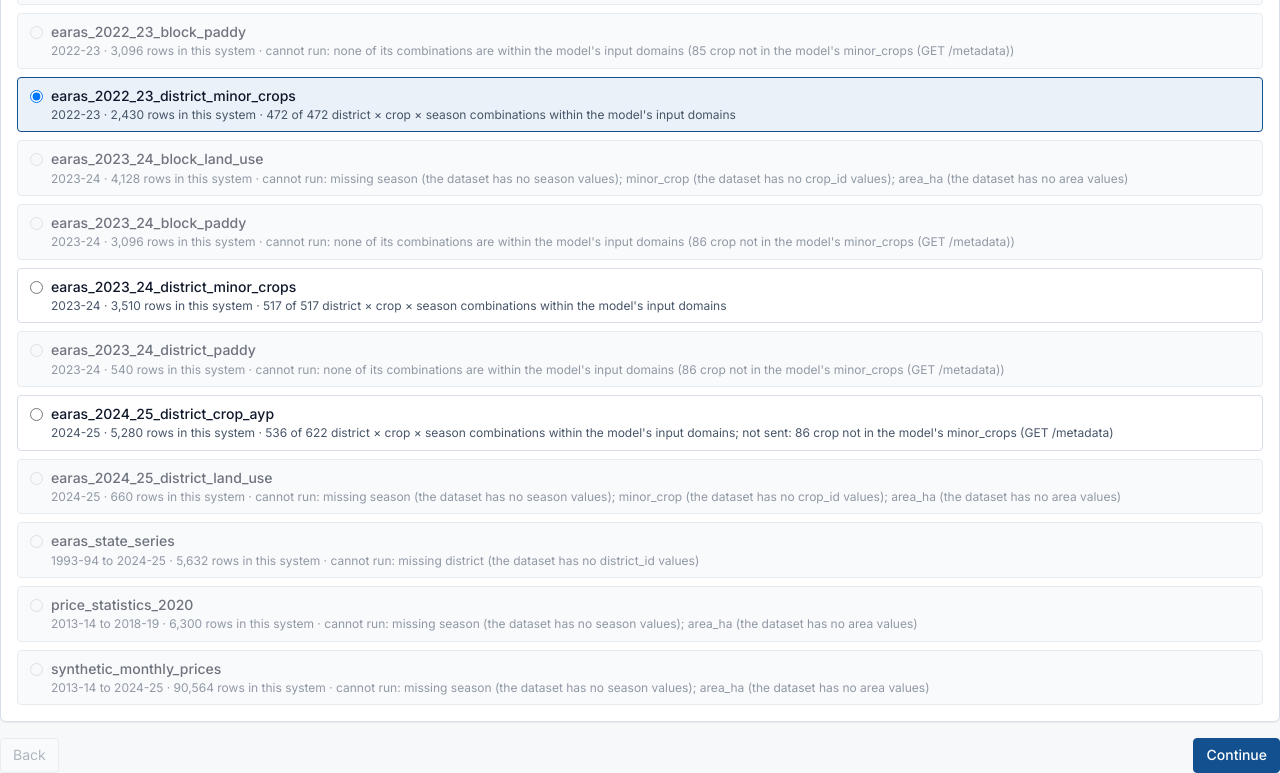
Scenario: Sandbox (RFP areas 6-7) › shows a failed run (runStorageFailed) as a specific message
(page scrolled)
Click the button "Continue".
click(1237, 756)  # box left=1194, top=738, right=1279, bottom=772
(page scrolled)
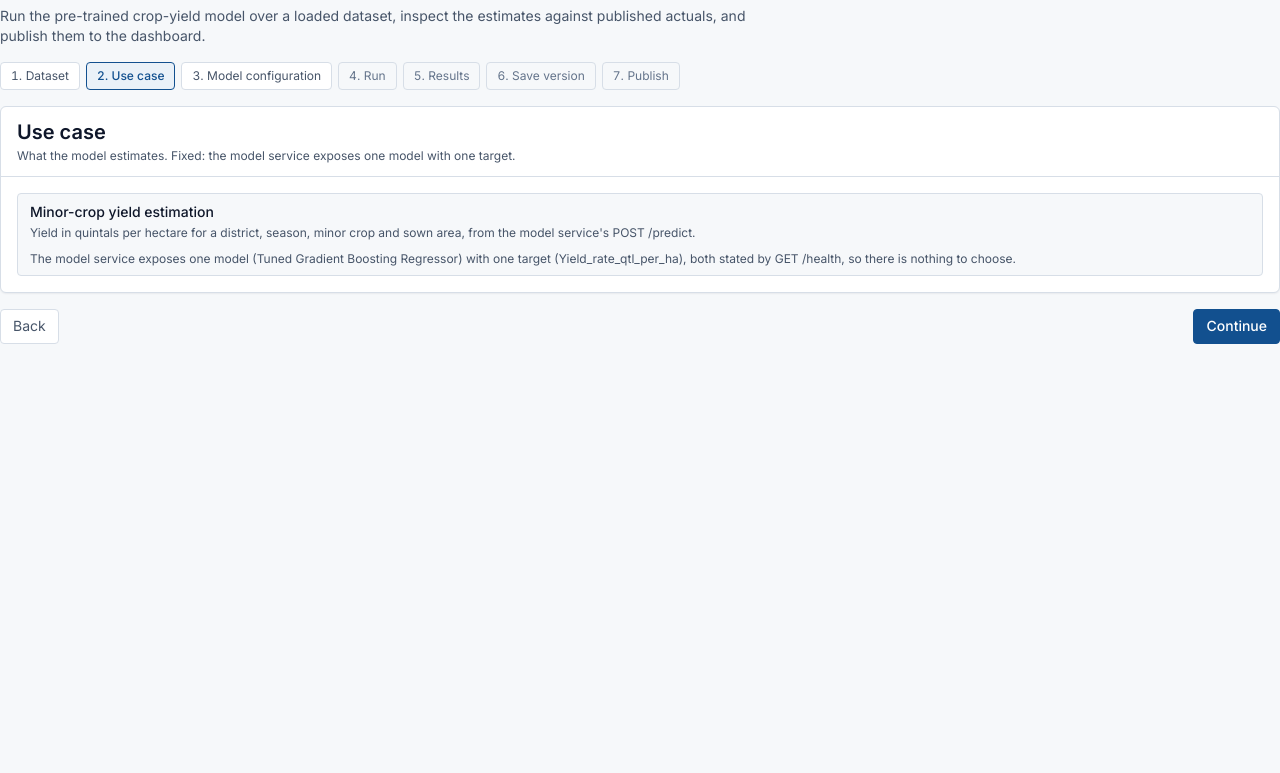
Click the button "Continue".
click(1237, 326)  # box left=1194, top=309, right=1279, bottom=344
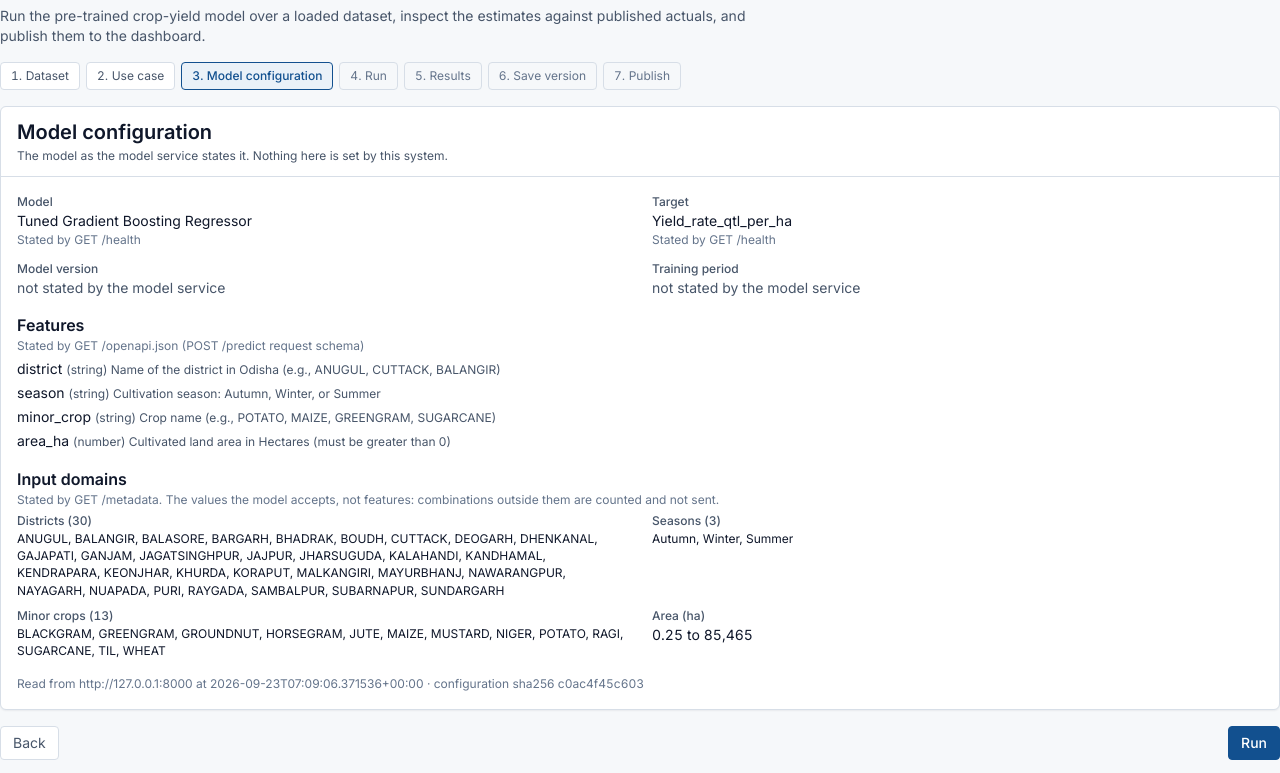
Click the button "Run".
click(1254, 743)  # box left=1228, top=726, right=1279, bottom=760
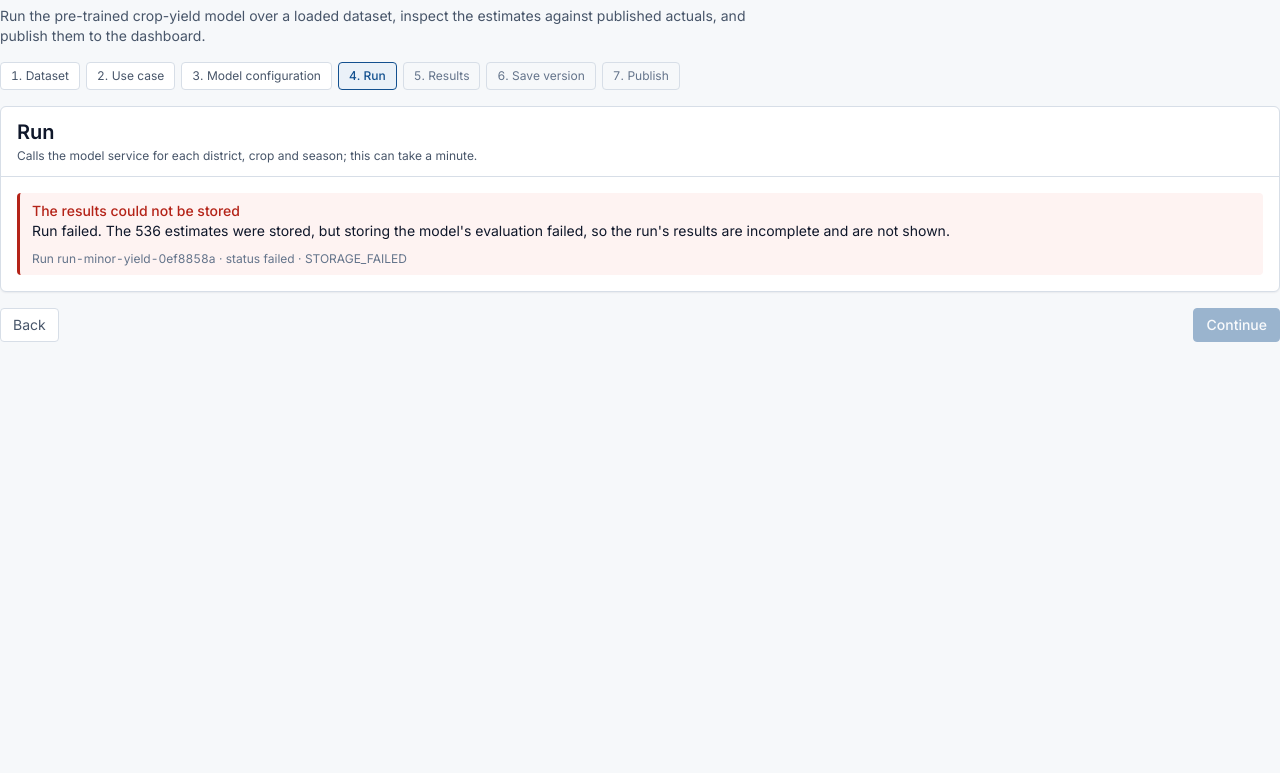
Check: the button "5. Results" is disabled, box left=403, top=62, right=480, bottom=90
Check: the message shows "The results could not be stored", box left=32, top=202, right=240, bottom=219
Check: the message shows "536 estimates were stored", box left=32, top=222, right=950, bottom=240
